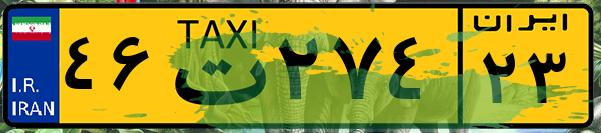2: (270, 28, 330, 110), (475, 38, 525, 113)
3: (525, 38, 570, 115)
4: (385, 28, 445, 110), (57, 26, 110, 100)
6: (110, 28, 158, 98)
7: (330, 28, 385, 110)
ت: (158, 12, 270, 120)
